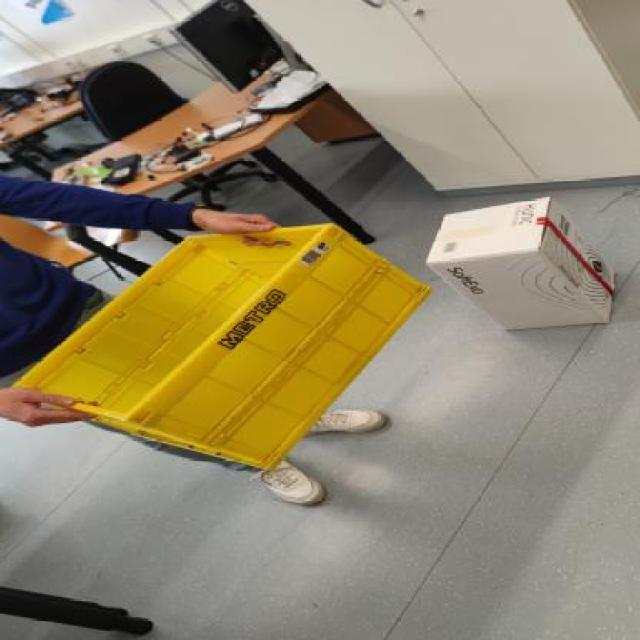box: (6, 221, 434, 484), (419, 196, 633, 341)
